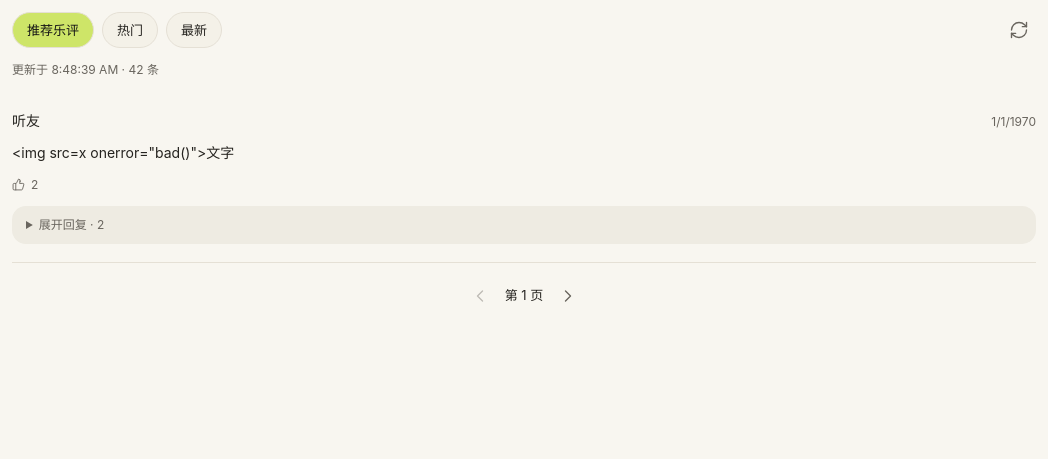
Test case: 乐评分页、切换最新、强制刷新，失败时保留文字且不解释为 HTML
The image size is (1048, 459).
Later steps or results of the test are not shown.
Expected: the element with class "comment-replies" is shown, top-left (12, 206), bottom-right (1036, 244)
Step 1. Click the heading "展开回复 · 2" → (71, 224), box top-left (39, 217), bottom-right (104, 232)
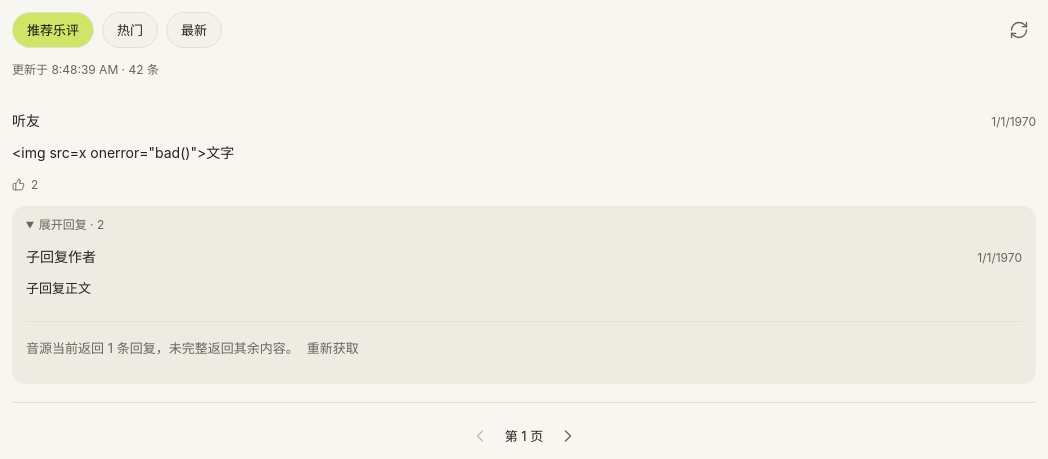
Expected: the text "文字" is shown, top-left (12, 144), bottom-right (234, 161)
Expected: the text "子回复正文" is shown, top-left (26, 280), bottom-right (91, 296)
Expected: the text "未完整返回其余内容" is shown, top-left (113, 340), bottom-right (299, 356)
